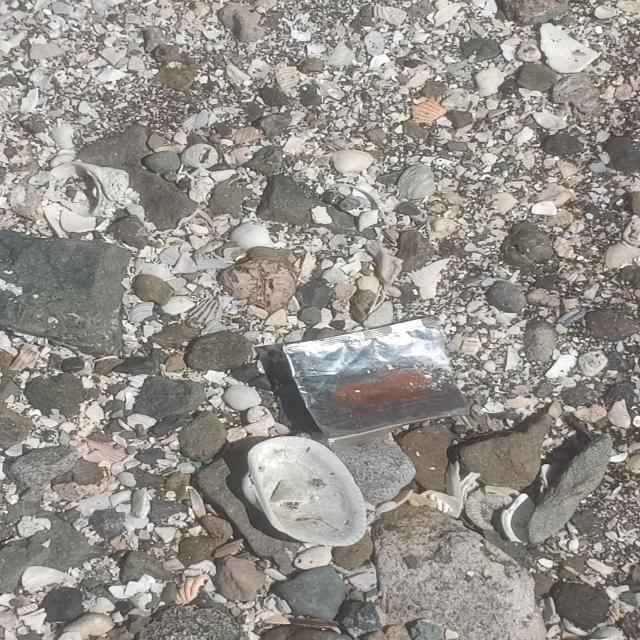plastic_waste: (281, 316, 472, 441)
styrofoam_waste: (244, 437, 369, 547)
